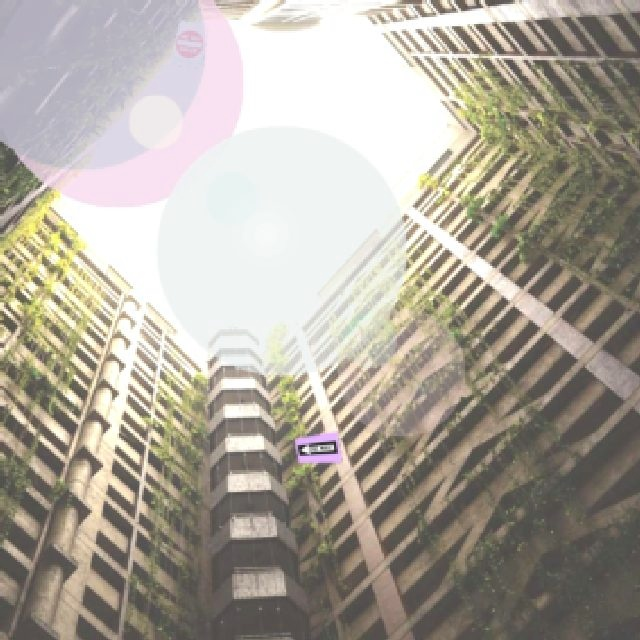DO_NOT_ENTER: (171, 26, 205, 60)
ONE_WAY_ left: (296, 439, 336, 455)
